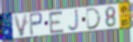8: (105, 6, 117, 29)
D: (86, 7, 103, 31)
E: (48, 10, 66, 35)
J: (67, 8, 80, 32)
P: (28, 12, 44, 37)
V: (12, 13, 29, 38)
